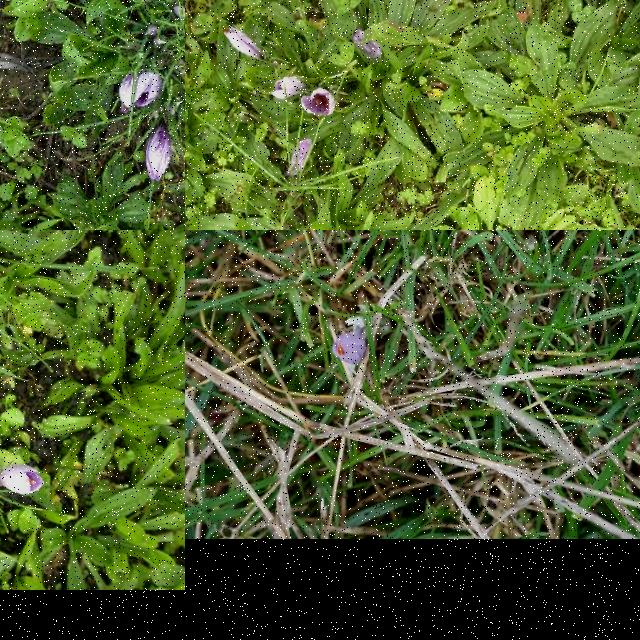flower: (118, 72, 164, 110), (222, 25, 266, 61), (145, 124, 171, 180), (1, 463, 44, 495), (332, 329, 368, 365), (302, 89, 336, 117), (271, 77, 307, 99)
